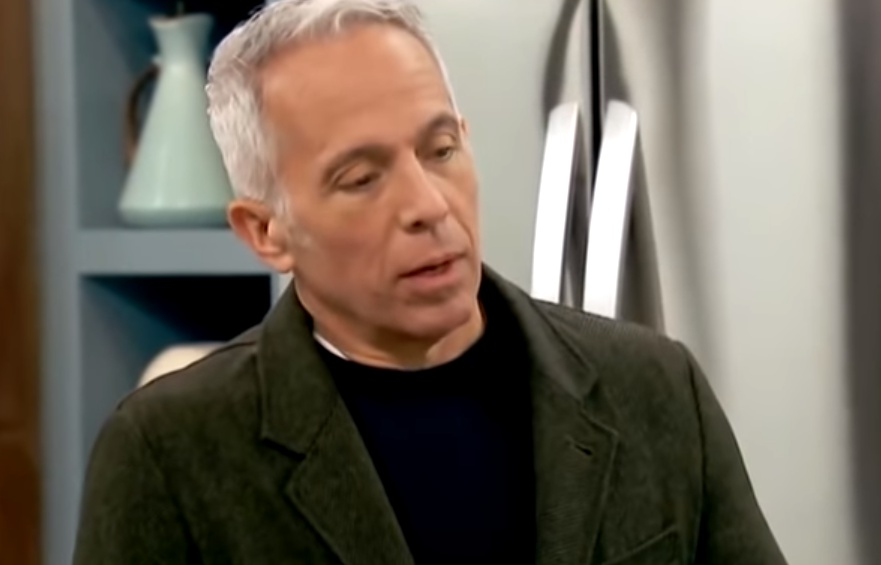mouth: (399, 248, 468, 285)
nose: (399, 202, 453, 233)
